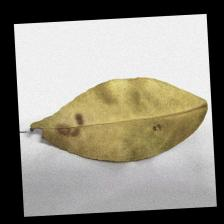black spot: (49, 108, 179, 150)
